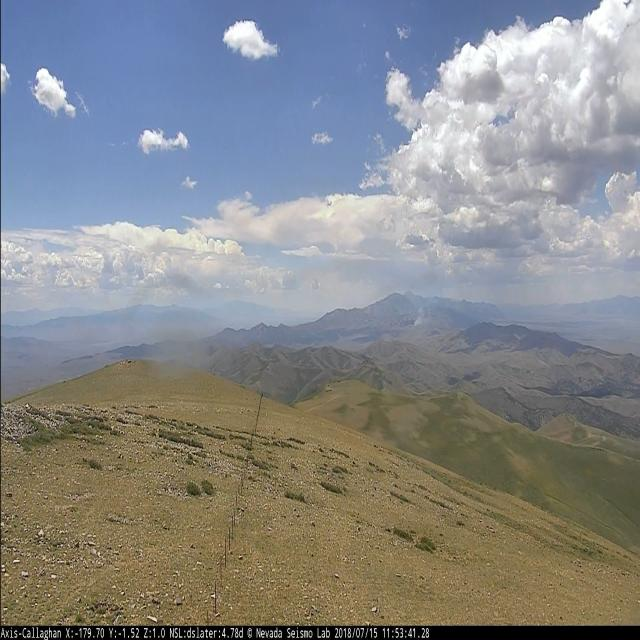smoke: (413, 307, 428, 328)
